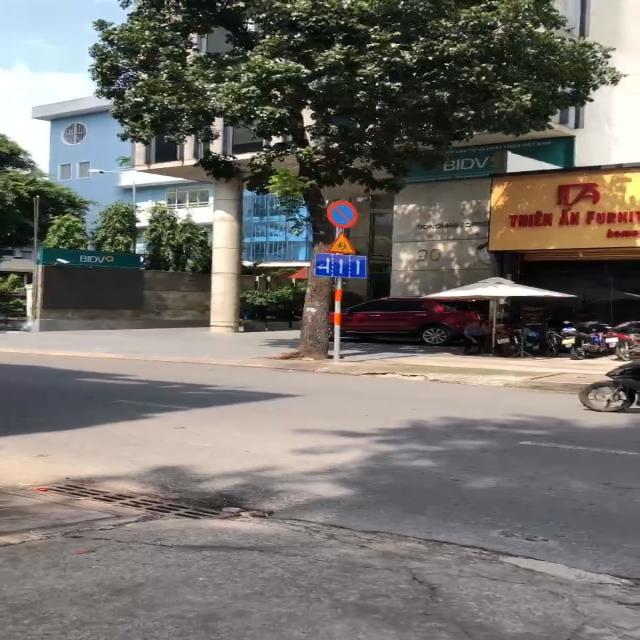Bien bao tre em: (325, 230, 356, 253)
